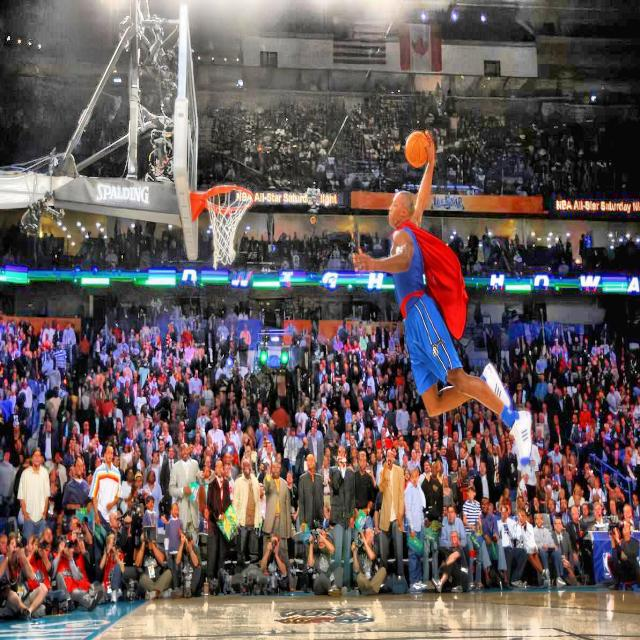board: (405, 131, 430, 166)
rim: (204, 186, 256, 269)
